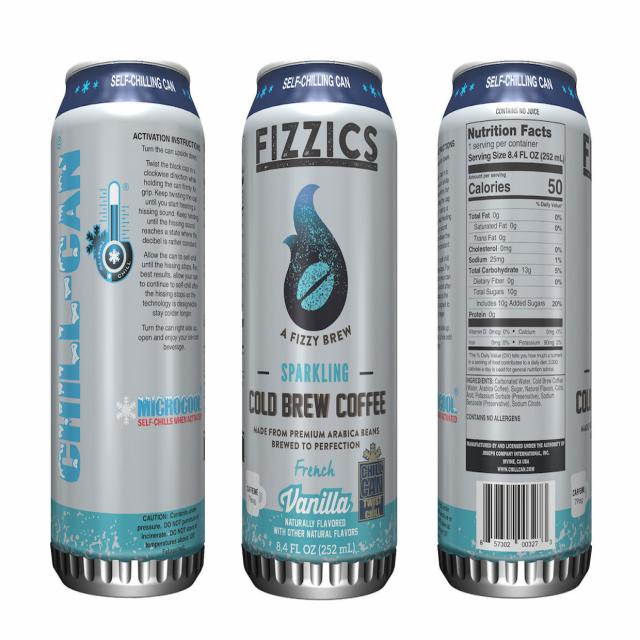Lata: (48, 63, 209, 598), (239, 69, 399, 606), (434, 61, 594, 596)
